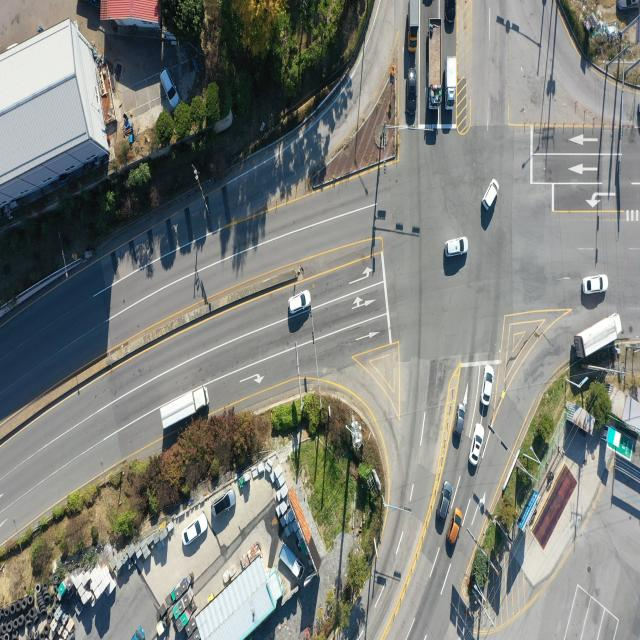car: (183, 513, 210, 546), (159, 67, 178, 108), (405, 66, 417, 120), (452, 405, 466, 451), (212, 491, 235, 519), (469, 425, 484, 467), (448, 508, 464, 546), (440, 482, 455, 521), (288, 292, 310, 316), (583, 276, 608, 296), (482, 366, 494, 407), (484, 181, 499, 212), (446, 238, 468, 258), (446, 0, 457, 33), (616, 0, 640, 15)
medium_truck: (162, 387, 212, 435), (574, 313, 620, 363), (427, 21, 442, 111)
small_truck: (278, 542, 303, 582), (408, 1, 420, 52), (446, 56, 458, 107), (132, 626, 146, 640)
